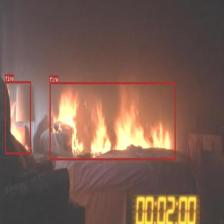fire: (50, 82, 176, 159), (5, 81, 31, 154)
